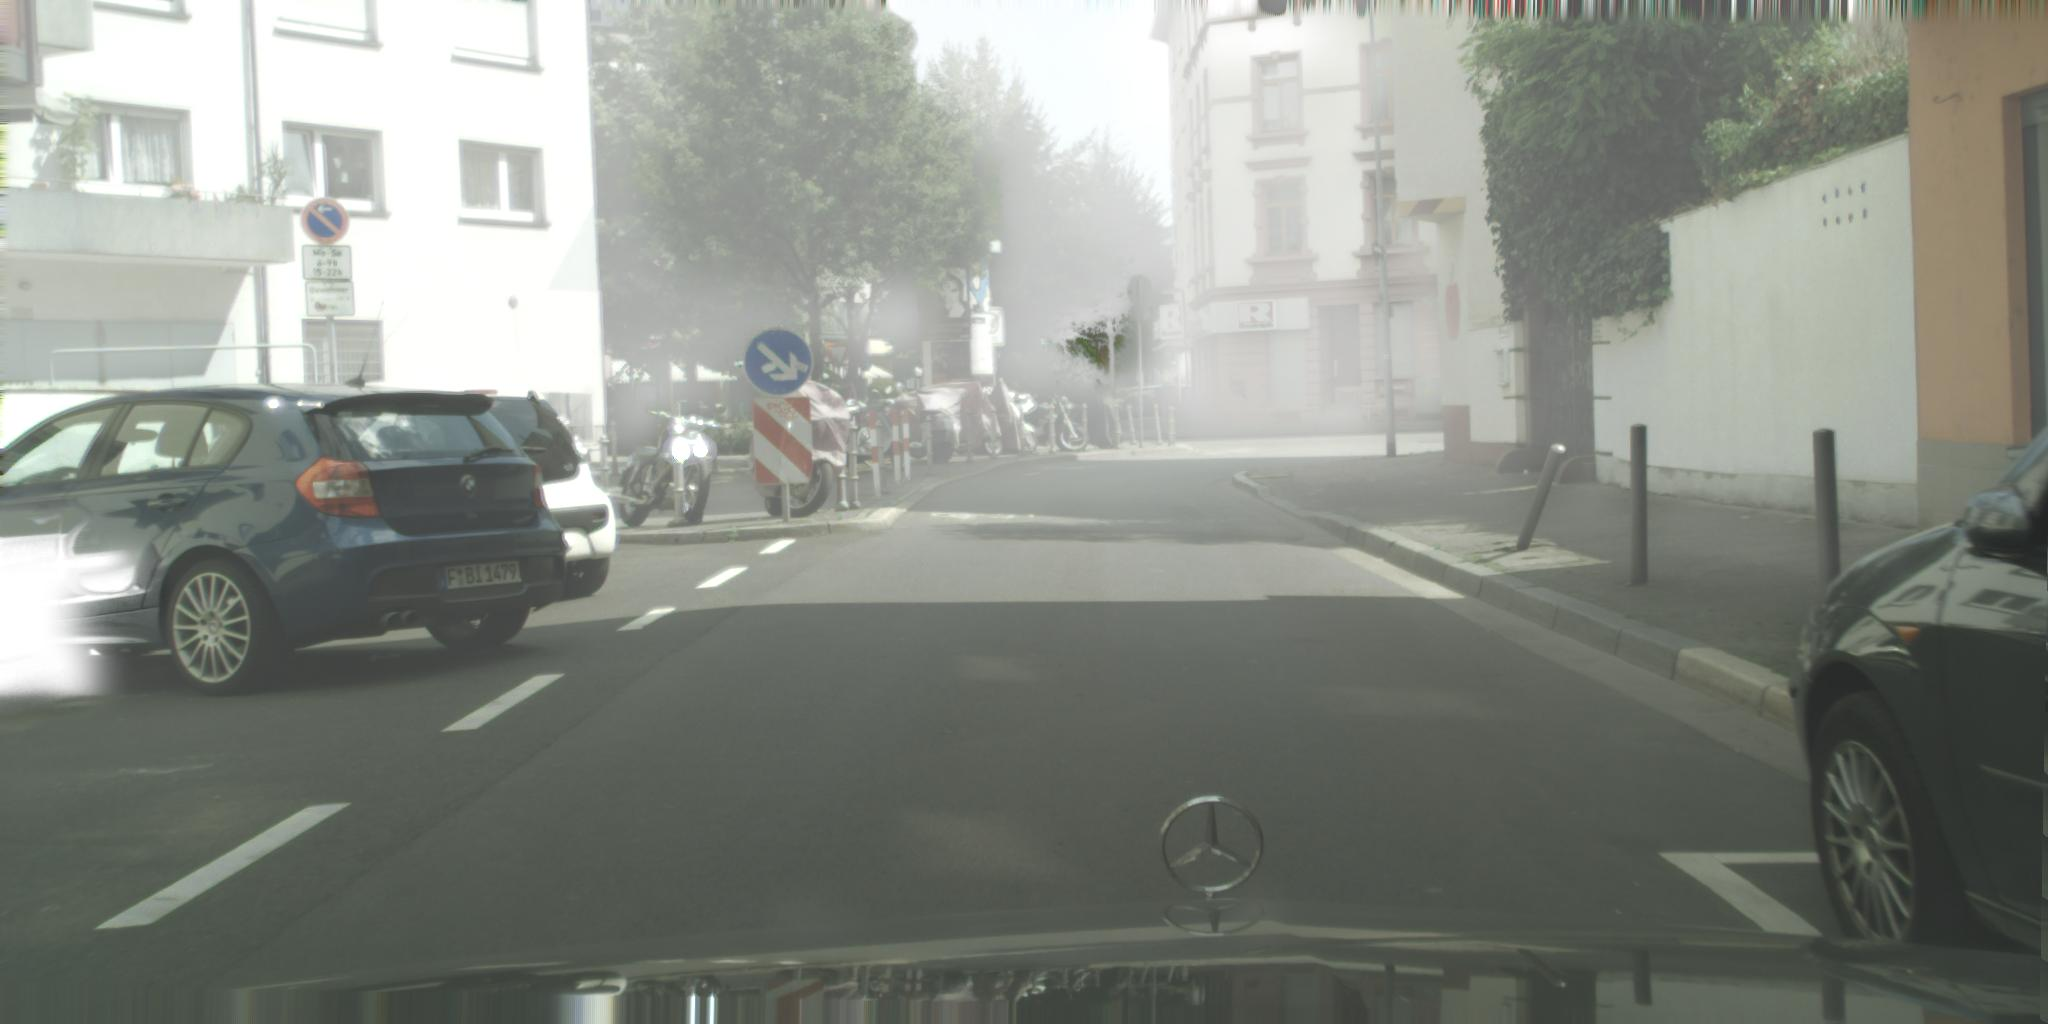car: (1, 298, 567, 697), (1789, 424, 2048, 987), (329, 379, 615, 602), (1123, 387, 1187, 419)
motorcycle: (603, 404, 735, 529), (748, 379, 852, 520), (882, 381, 1004, 460), (828, 387, 908, 473), (1000, 381, 1091, 453), (980, 379, 1038, 455), (1062, 381, 1123, 449), (916, 388, 967, 464), (825, 383, 865, 439)
